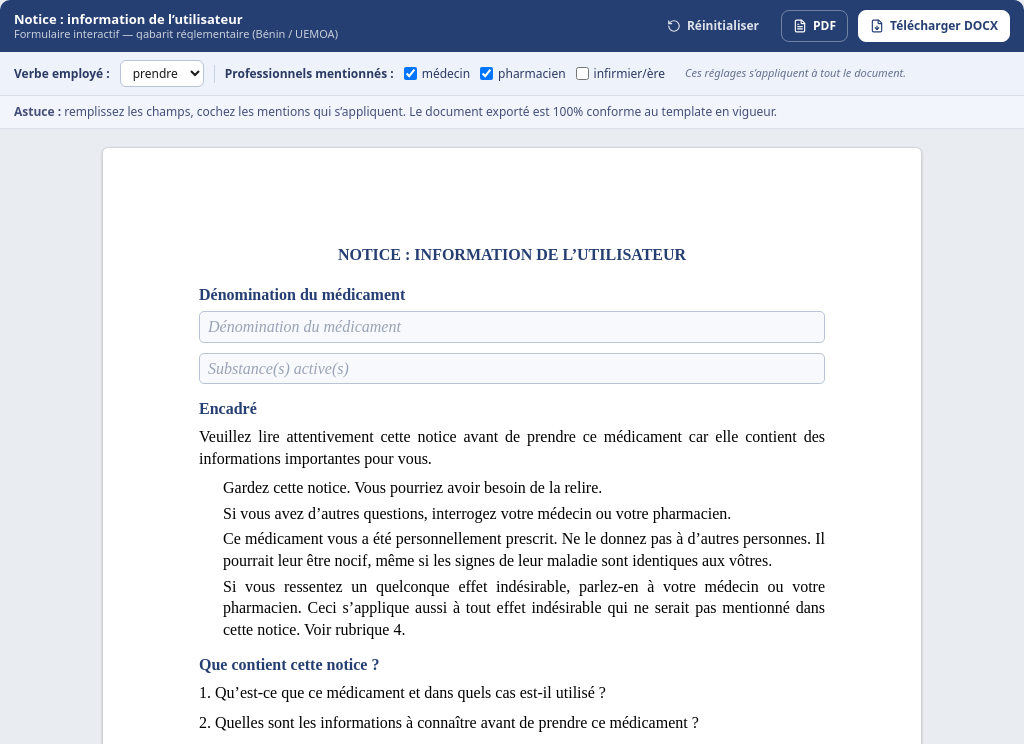
Test: TemplateFillForm (formulaires officiels — branding CEO) › Notice : barre des réglages globaux — le verbe re-rend les textes dynamiques
Expected: the heading "NOTICE : INFORMATION DE L’UTILISATEUR" is shown, [338,246,686,263]
Expected: the text "avant de prendre ce médicament car elle contient" is shown, [199,428,825,467]
Select "utiliser" in the dropdown named "Verbe employé". click: coordinates (162, 74)
box: [120,60,204,87]
(page scrolled)
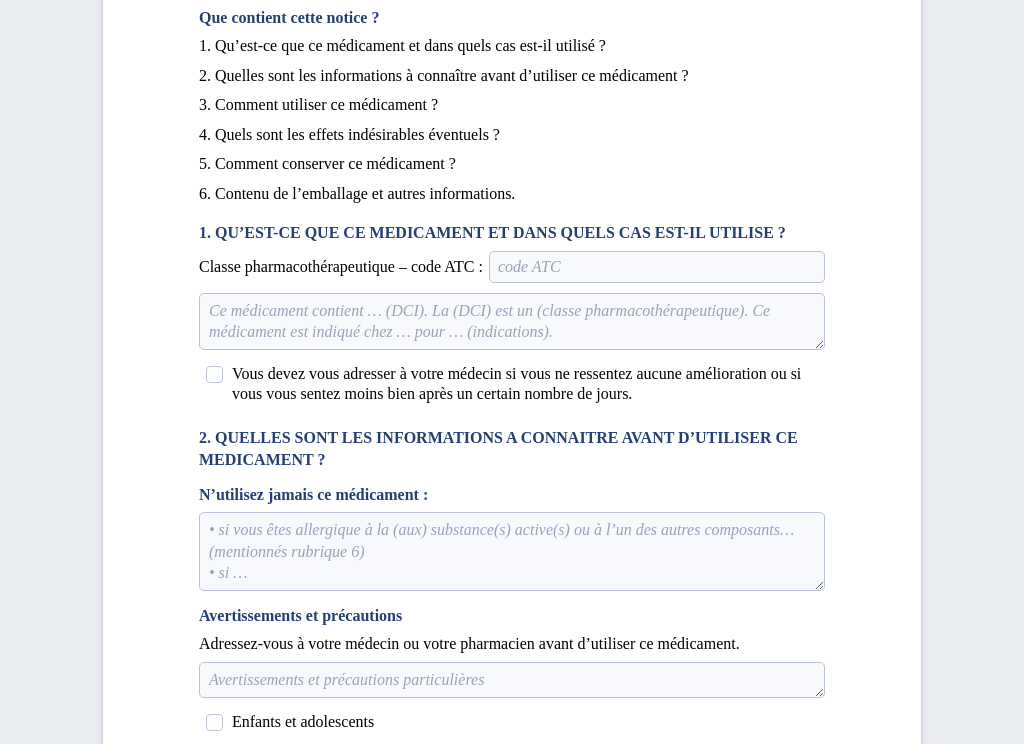
Expected: the field with placeholder "nombre de jours" is not shown
Click the text "aucune amélioration ou si vous vous sentez moins bien". click: coordinates (525, 384)
box: [232,364,818,405]
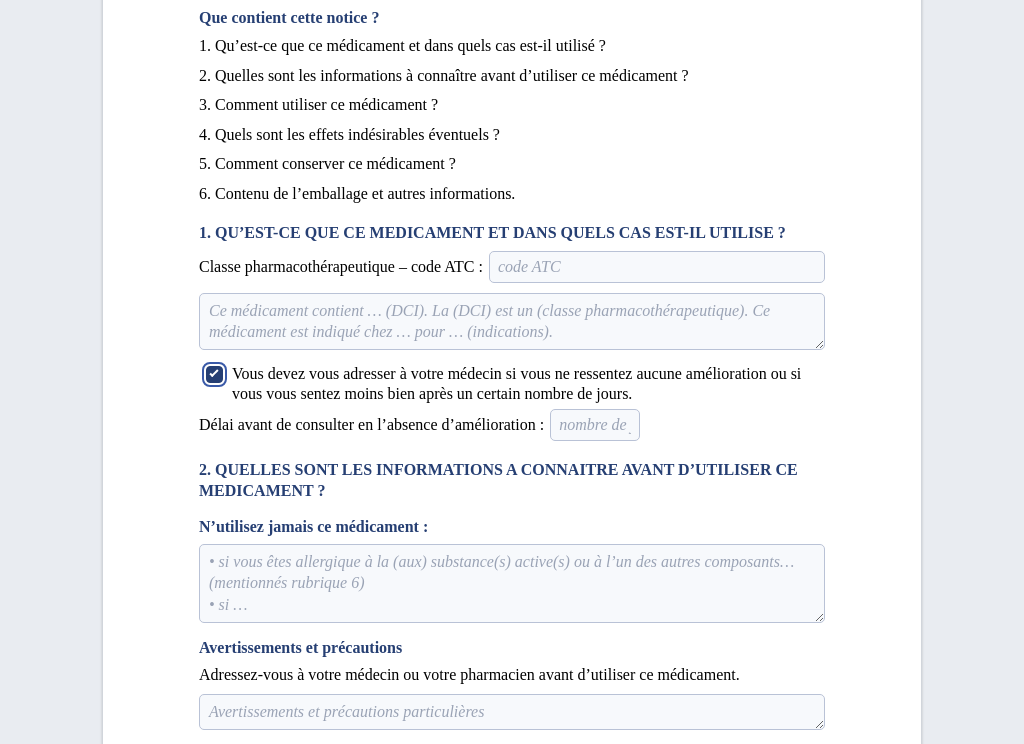
Result: the field with placeholder "nombre de jours" is shown at [550,409,640,441]
